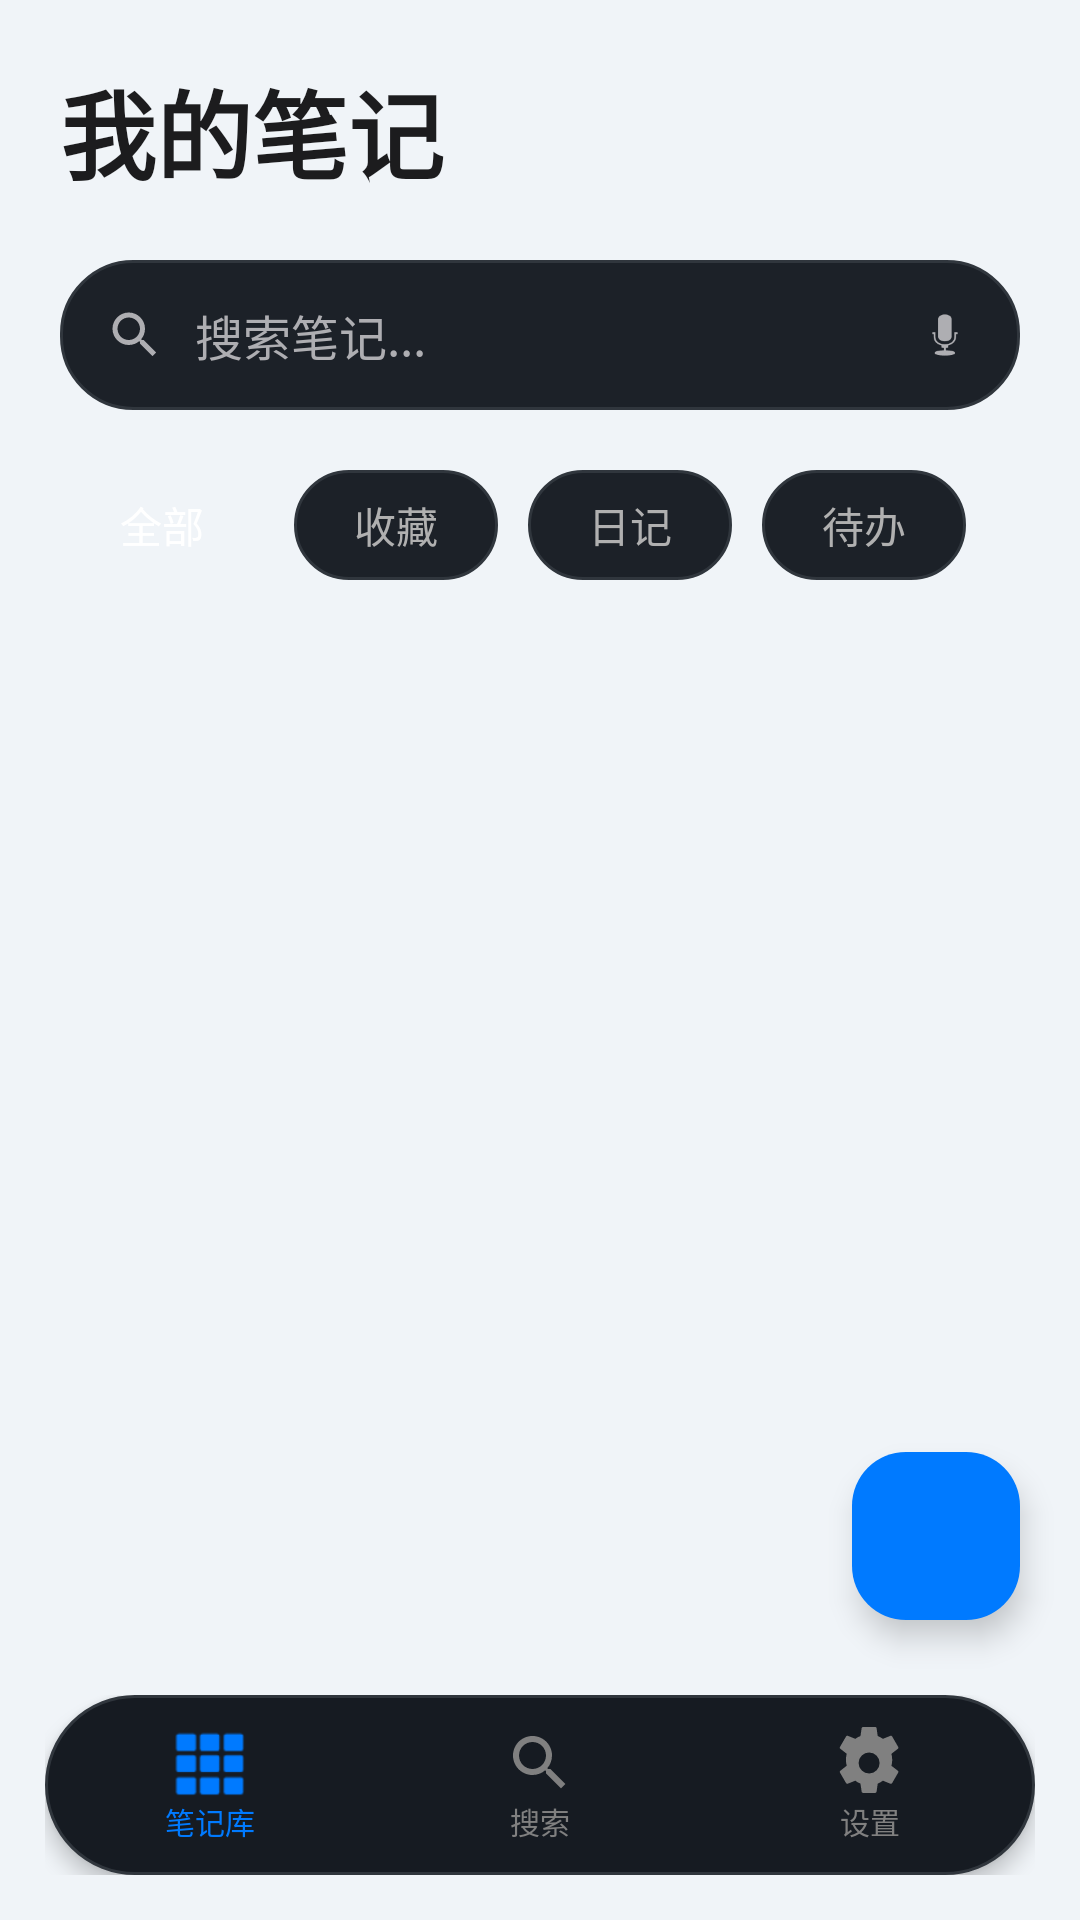

Where icons sit on this 1080 x 1920 app screen, as bbox=(x1, y1, x2, y2):
speak now: bbox=(932, 314, 958, 356)
